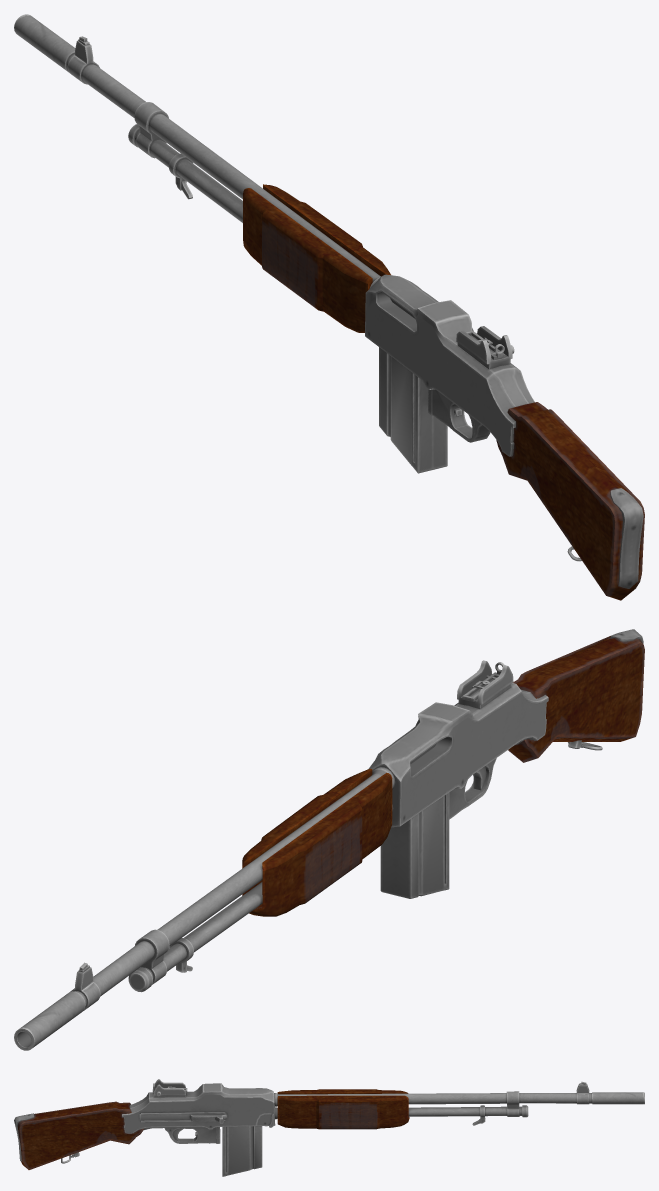
The model's file is bar.glb.
3 renders of one model, top to bottom at view 1: azimuth 30°, elevation 25°; view 2: azimuth 150°, elevation 25°; view 3: azimuth 270°, elevation 25°, orthographic. The views are drawn at different scales.
Parts seen in each view (by area): view 1: upper reciever, sholderpad, grip, barrel, magazine, sholderpadback, trigger chasse, ironsightbase; view 2: upper reciever, barrel, grip, sholderpad, magazine, ironsightbase, trigger chasse; view 3: sholderpad, grip, upper reciever, barrel, magazine, trigger chasse, reloadstick, ironsightbase, reloadchasse, sholderpadback.
Part boxes in pixels (x1,y1,x2,y2): upper reciever: (365,274,534,456); sholderpad: (496,402,644,600); grip: (243,184,390,332); barrel: (14,14,380,288); magazine: (379,347,447,473); sholderpadback: (610,488,643,588); trigger chasse: (428,389,490,442); ironsightbase: (456,326,512,369); upper reciever: (368,683,548,827); barrel: (14,767,395,1050); grip: (242,768,392,916); sholderpad: (508,636,644,762); magazine: (380,793,449,898); ironsightbase: (457,660,513,708); trigger chasse: (449,758,496,819); sholderpad: (17,1101,143,1169); grip: (277,1089,409,1129); upper reciever: (122,1083,275,1133); barrel: (274,1081,644,1123); magazine: (222,1126,262,1176); trigger chasse: (164,1127,220,1143); reloadstick: (139,1113,227,1123); ironsightbase: (152,1079,186,1097); reloadchasse: (141,1112,227,1122); sholderpadback: (14,1113,34,1161).
Size of the model in its own units: 0.1512 by 0.4332 by 2.7.
Materials: 1 (1 with a texture image).
